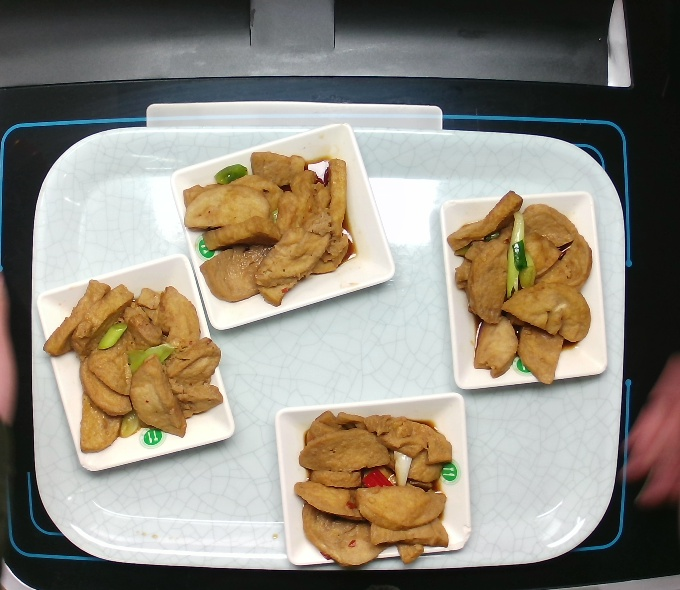wcq-SuJi: (44, 275, 225, 456), (177, 149, 375, 307), (443, 189, 599, 383), (288, 406, 462, 568)
